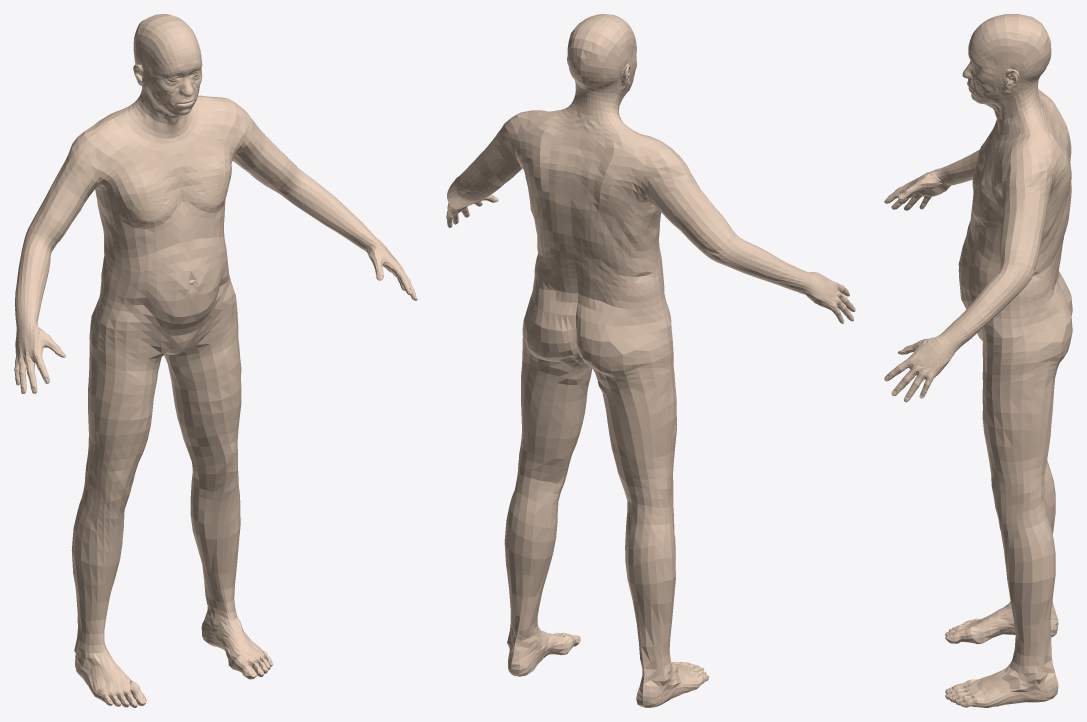
Rendered from male-older-max-medium.glb.
3 renders of one model, left to right at view 1: azimuth 30°, elevation 25°; view 2: azimuth 150°, elevation 25°; view 3: azimuth 270°, elevation 25°, orthographic.
Visible parts, largest first — view 1: world; view 2: world; view 3: world.
Boxes of the visible parts, <box> form: world: <box>14,14,417,707</box>; world: <box>446,14,855,707</box>; world: <box>884,14,1072,707</box>.
Bounding box in the file's own units: 1.22 × 1.93 × 0.5062.
